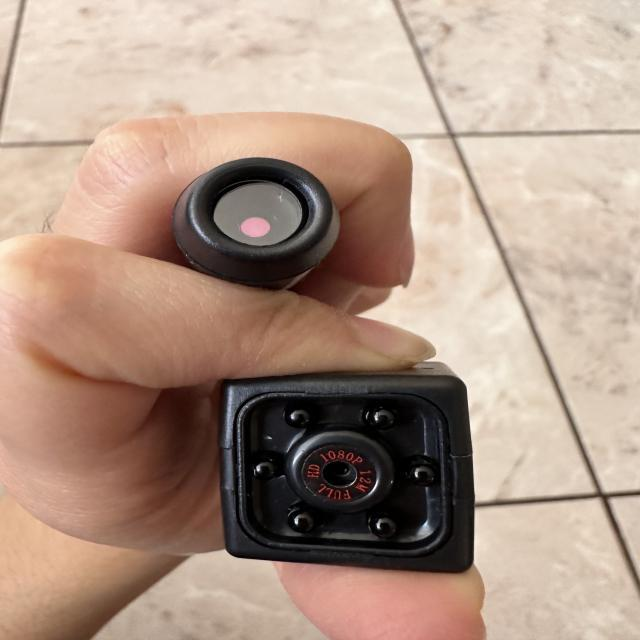hidden camera: (186, 155, 328, 256), (291, 433, 395, 513)
